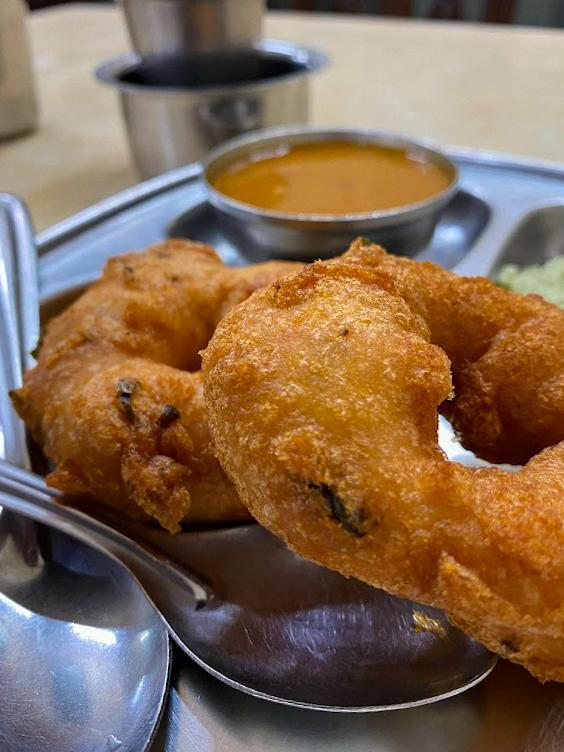mvada: (93, 281, 564, 523)
